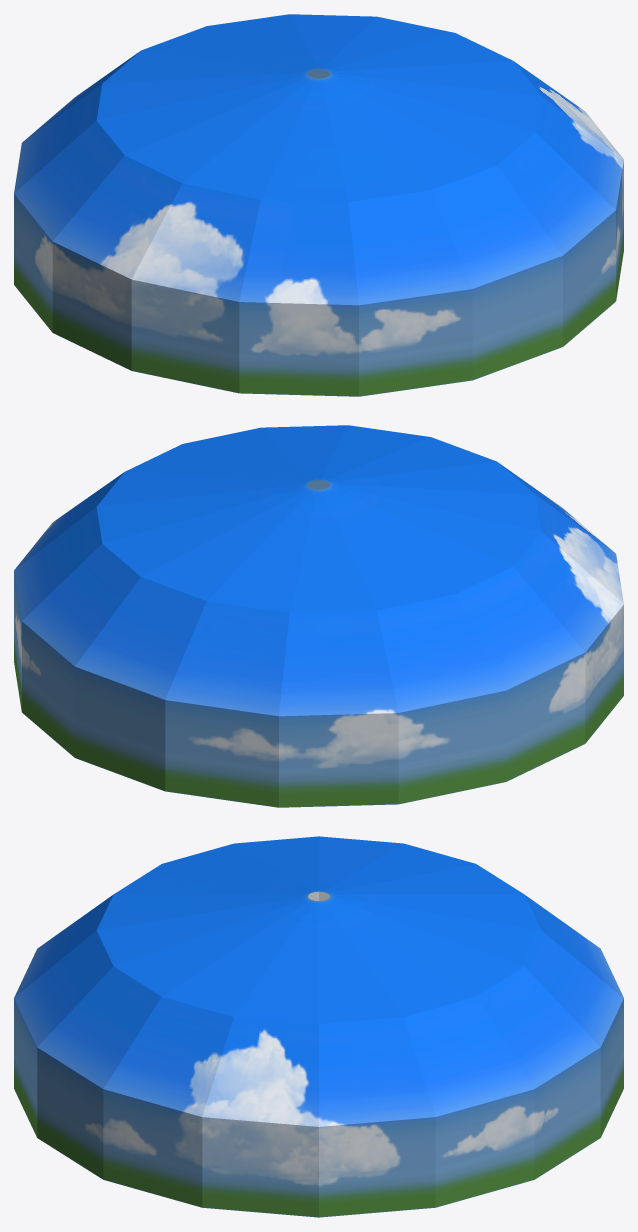
File: sky.dae
3 renders of one model, top to bottom at view 1: azimuth 30°, elevation 25°; view 2: azimuth 150°, elevation 25°; view 3: azimuth 270°, elevation 25°, orthographic.
Parts seen in each view (by area): view 1: skyOB; view 2: skyOB; view 3: skyOB.
Boxes of the visible parts, <box> form: skyOB: <box>14,14,623,396</box>; skyOB: <box>14,425,623,807</box>; skyOB: <box>14,836,623,1217</box>.
Size of the model in its own units: 653 by 653 by 227.
